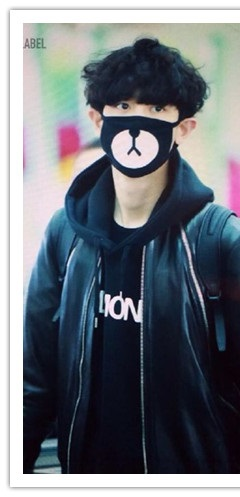face_mask: (101, 88, 179, 179)
